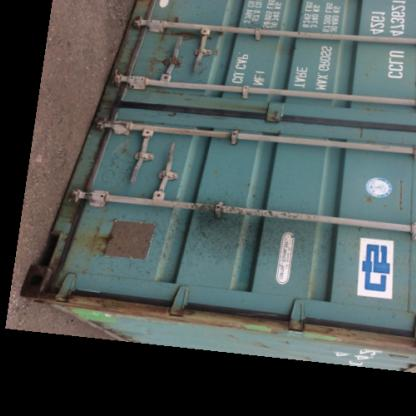Damage: (173, 194, 341, 264), (85, 195, 176, 273), (126, 8, 202, 78), (97, 139, 147, 185)
